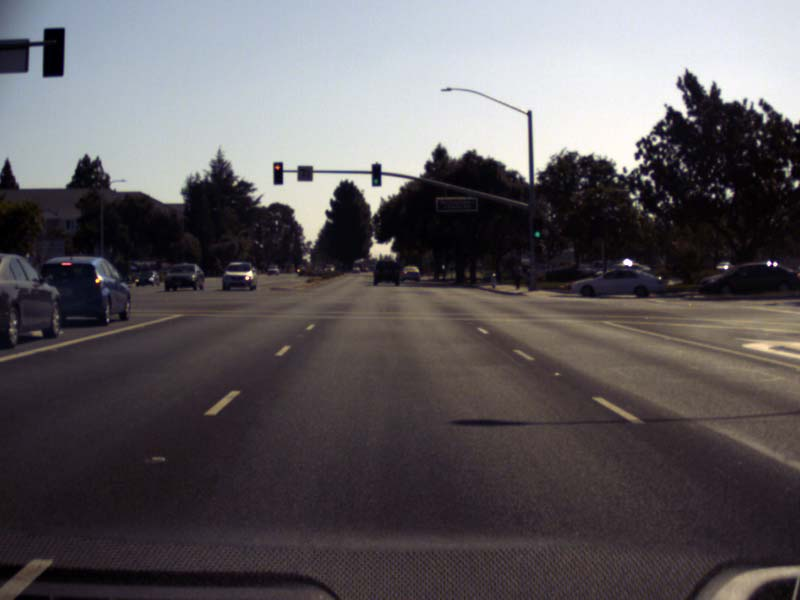Green: (371, 163, 381, 186), (532, 217, 542, 240)
Red: (273, 161, 282, 183)
